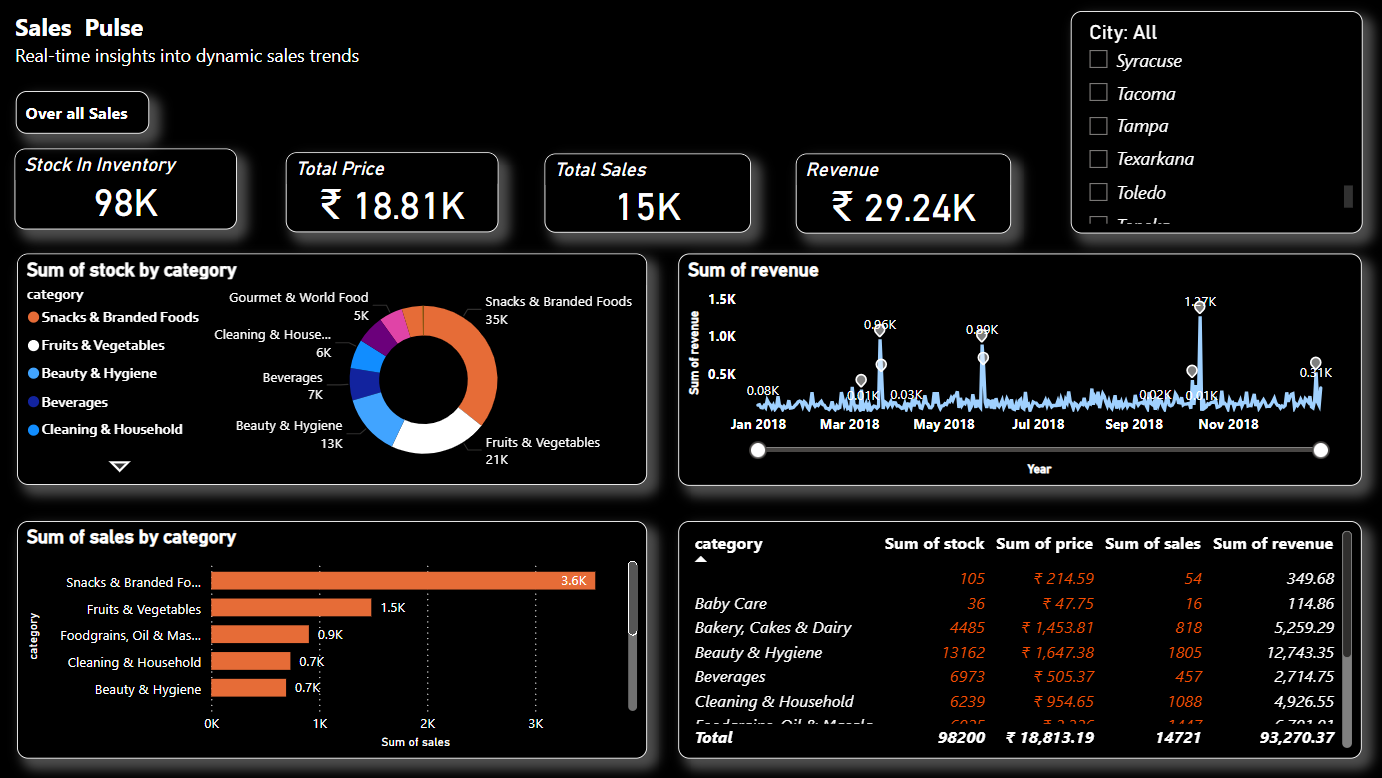

The page's visual inventory and layout, read from the dashboard file:
{"tool":"powerbi","page":{"name":"Sales Dashboard","canvas":[1280,720],"ordinal":0},"visuals":[{"type":"card","title":"Stock In Inventory","fields":{"Values":["Sum(sales2017.stock)"]},"box":[34,142,200,73],"z":0},{"type":"card","title":"Total Price","fields":{"Values":["Sum(sales2017.price)"]},"box":[277.3,144.8,191.4,72.4],"z":1000},{"type":"card","title":"Total Sales","fields":{"Values":["Sum(sales2019.sales)"]},"box":[510.4,146,185.3,71.2],"z":2000},{"type":"card","title":"Revenue","fields":{"Values":["Sum(sales2017.revenue)"]},"box":[736.2,146,193.9,72.4],"z":3000},{"type":"textbox","box":[29,12,167,45],"z":4000},{"type":"textbox","box":[29.4,41.7,331.3,31.9],"z":5000},{"type":"textbox","box":[34.4,89.6,120.2,38],"z":6000},{"type":"lineChart","title":"Sum of revenue","fields":{"Y":["Sum(sales2018.revenue)"],"Category":["sales2018.order_date.Variation.Date Hierarchy.Year","sales2018.order_date.Variation.Date Hierarchy.Quarter","sales2018.order_date.Variation.Date Hierarchy.Month","sales2018.order_date.Variation.Date Hierarchy.Day"]},"box":[630.7,235.6,614.7,208.6],"z":7000},{"type":"clusteredBarChart","fields":{"Category":["product hierarchy.category"],"Y":["Sum(sales2018.sales)"]},"box":[35.6,476.4,566.6,213.7],"z":8000},{"type":"donutChart","fields":{"Category":["product hierarchy.category"],"Y":["Sum(sales2017.stock)"]},"box":[35.6,236,566.6,208.2],"z":9000},{"type":"slicer","fields":{"Values":["store_cities.city"]},"box":[983.1,18,261.8,200],"z":10000},{"type":"tableEx","fields":{"Values":["product hierarchy.category","Sum(sales2017.stock)","Sum(sales2017.price)","Sum(sales2019.sales)","Sum(sales2019.revenue)"]},"box":[630.7,476.1,614.7,213.5],"z":11000}]}

Visuals, with their boxes in screenshot pixels (x1, y1, x2, y2), scaled from the page's 1280x720 canvas onto the 1382x778 screenshot:
"Stock In Inventory" card: Rect(37, 153, 253, 232)
"Total Price" card: Rect(299, 156, 506, 235)
"Total Sales" card: Rect(551, 158, 751, 235)
"Revenue" card: Rect(795, 158, 1004, 236)
textbox: Rect(31, 13, 212, 62)
textbox: Rect(32, 45, 389, 80)
textbox: Rect(37, 97, 167, 138)
"Sum of revenue" lineChart: Rect(681, 255, 1345, 480)
clusteredBarChart - product hierarchy.category x Sum(sales2018.sales): Rect(38, 515, 650, 746)
donutChart - product hierarchy.category x Sum(sales2017.stock): Rect(38, 255, 650, 480)
slicer - store_cities.city: Rect(1061, 19, 1344, 236)
tableEx - product hierarchy.category x Sum(sales2017.stock): Rect(681, 514, 1345, 745)
